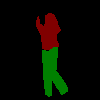jeans: (41, 46, 68, 96)
maglia: (36, 12, 60, 50)
